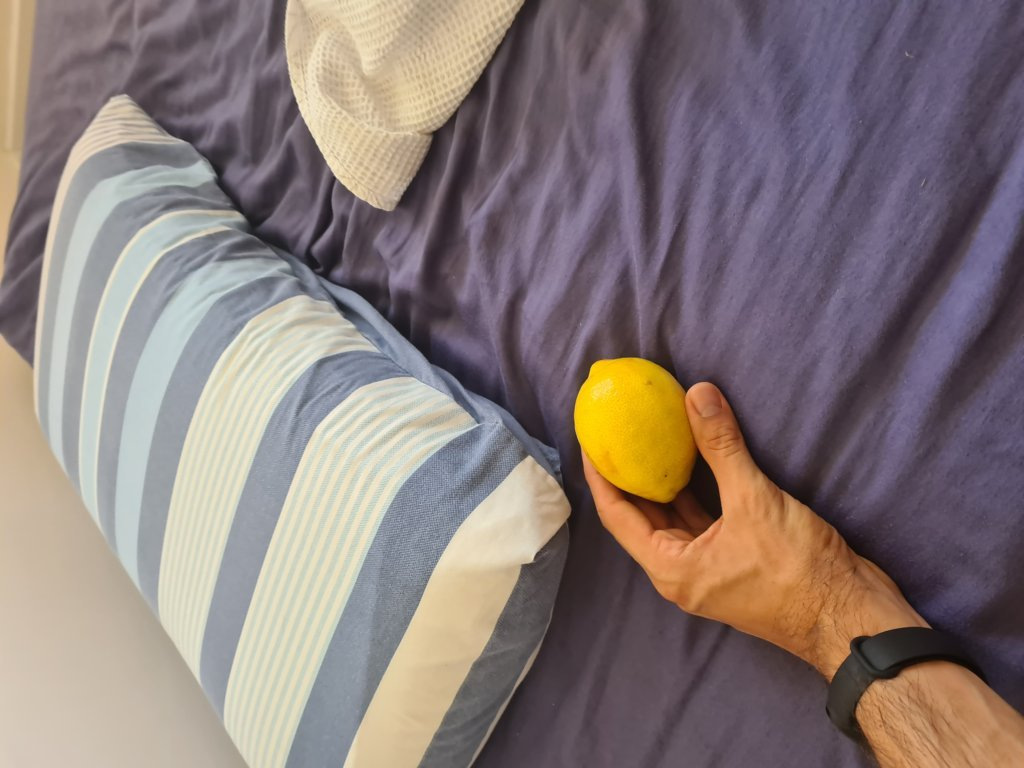lemon: (577, 350, 701, 504)
